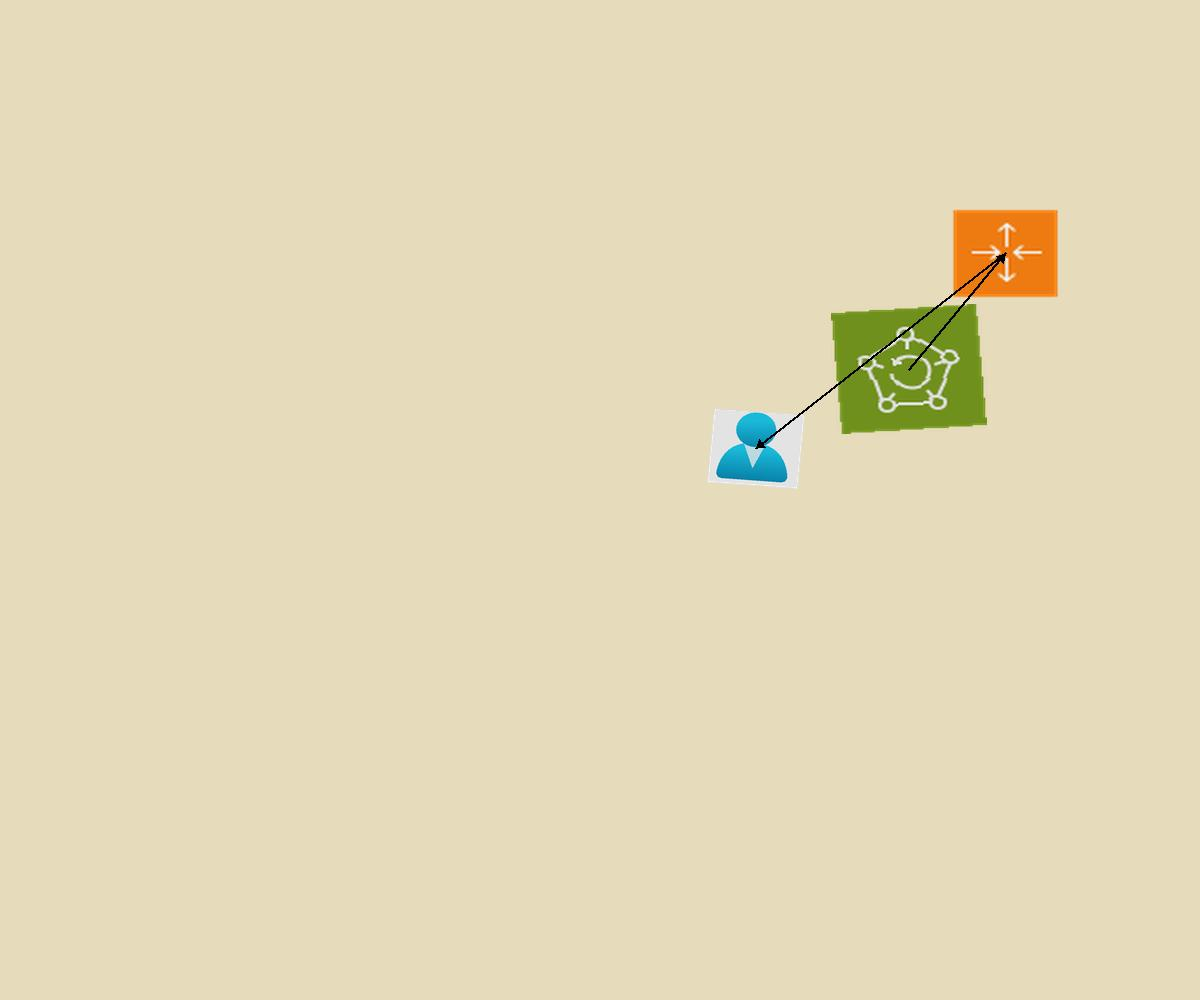AWS-Backup: (831, 304, 987, 434)
AWS-Scaling-group: (951, 208, 1060, 299)
Azure_users: (707, 408, 805, 489)
